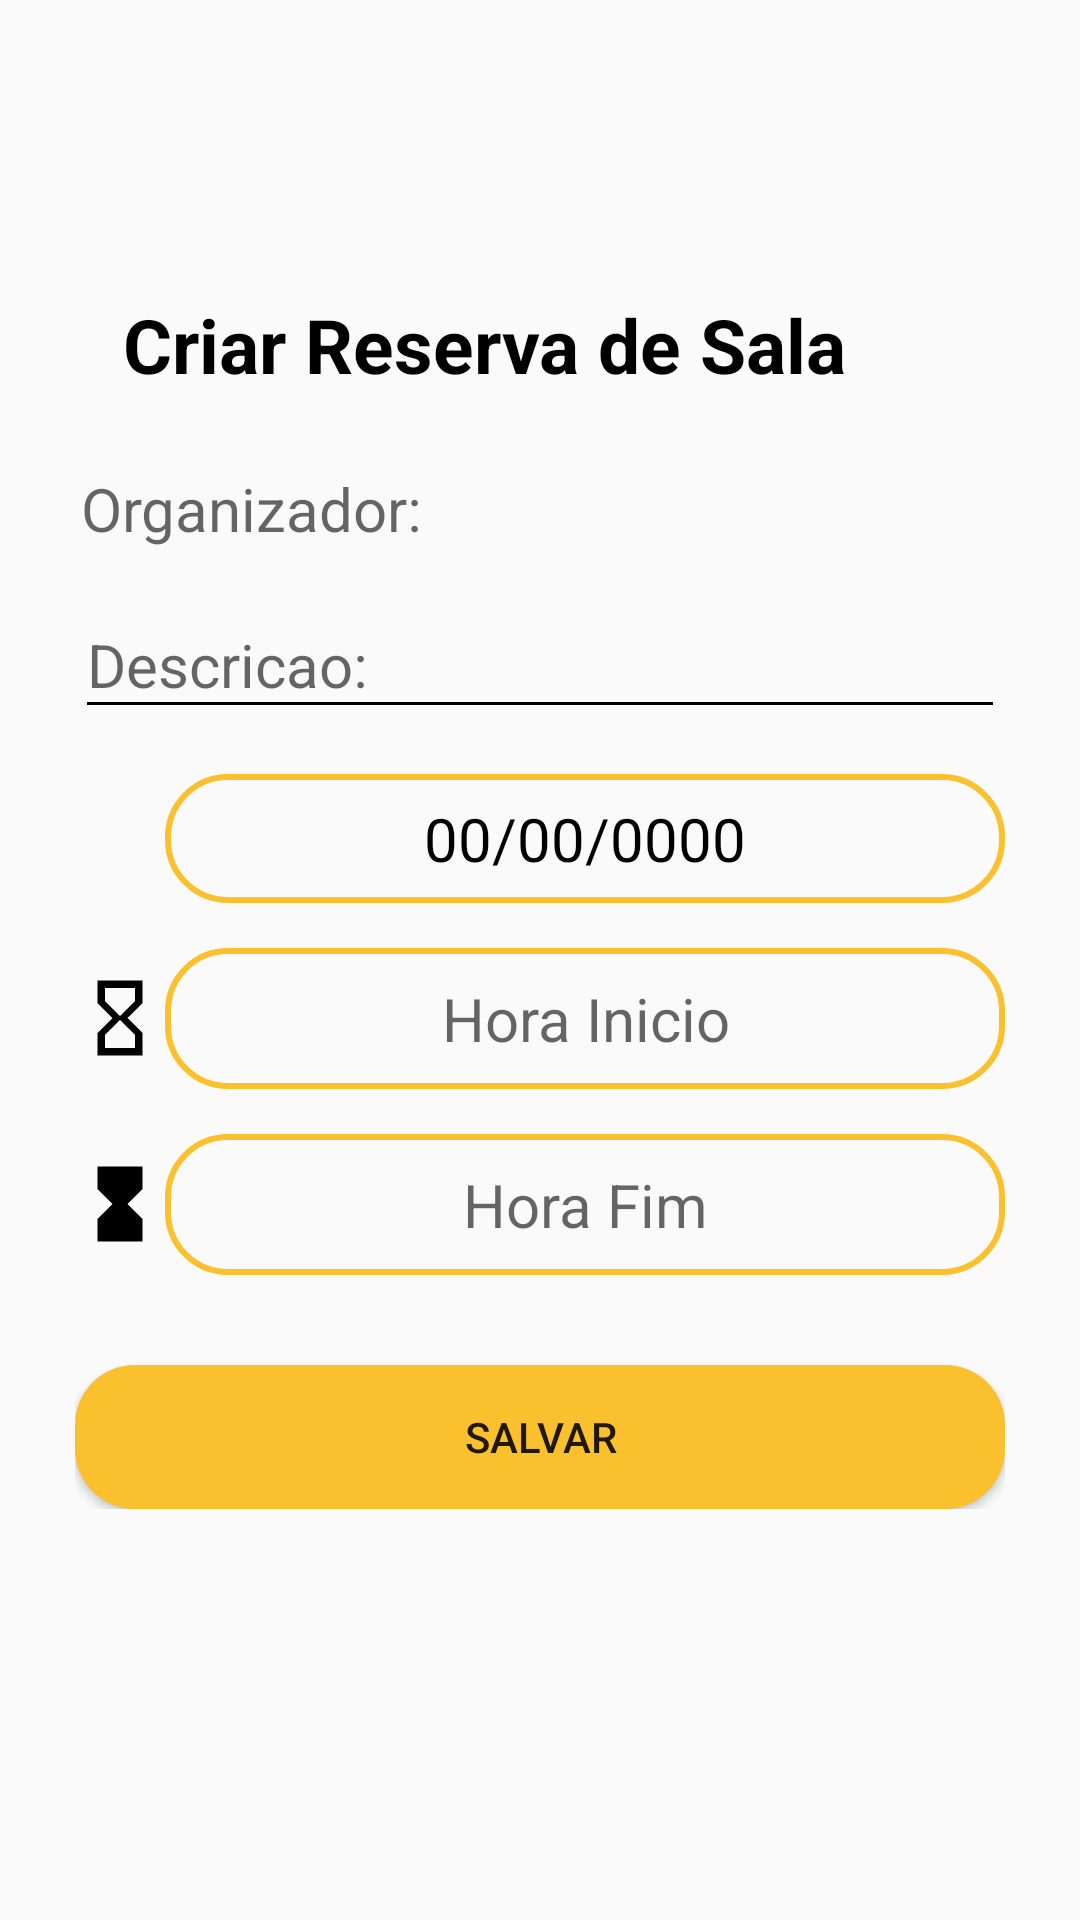

Where to tap for icons on this 1080px×1920px app screen, as (x=x, y=y):
hour empty: (x=120, y=1018)
hour full: (x=120, y=1204)
